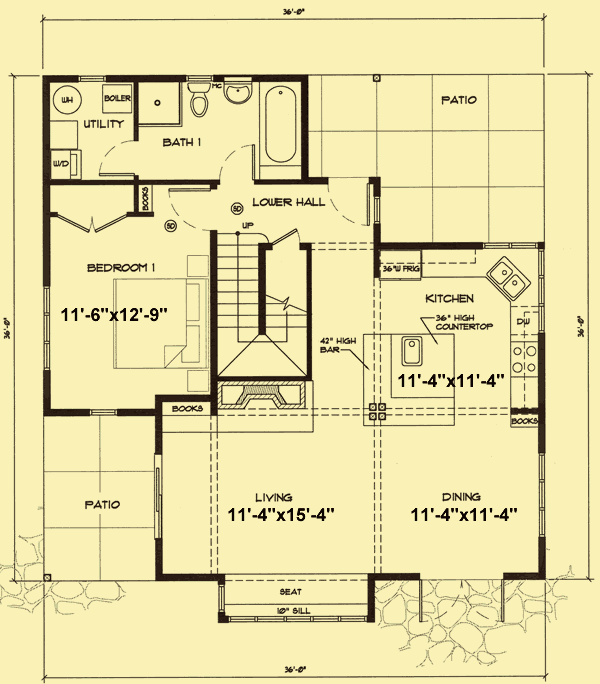bed: (111, 273, 210, 373)
door: (327, 175, 372, 229), (164, 187, 212, 234), (213, 139, 256, 185), (55, 213, 133, 234), (98, 138, 138, 178)
kitchen_bar: (358, 329, 459, 428)
large_sink: (182, 82, 214, 122)
small_sink: (218, 85, 255, 107)
stairs: (214, 231, 311, 382)
tub: (258, 81, 305, 168)
twin_sink: (485, 255, 531, 304)
window: (533, 450, 552, 539), (149, 454, 166, 540), (38, 283, 52, 370), (537, 248, 548, 339)
